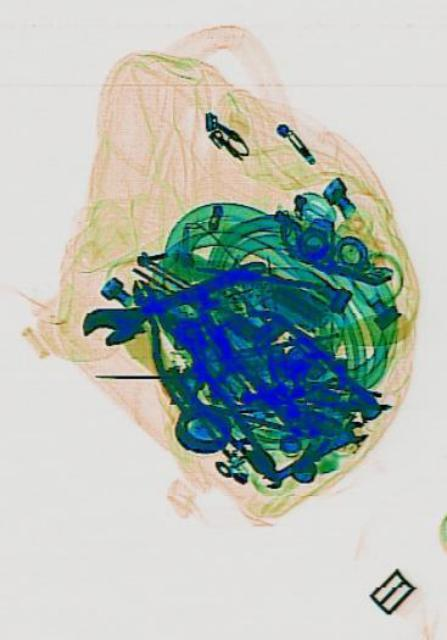Pliers: (173, 351, 284, 489), (114, 262, 214, 414)
Wrench: (76, 240, 267, 356), (260, 416, 367, 492)
